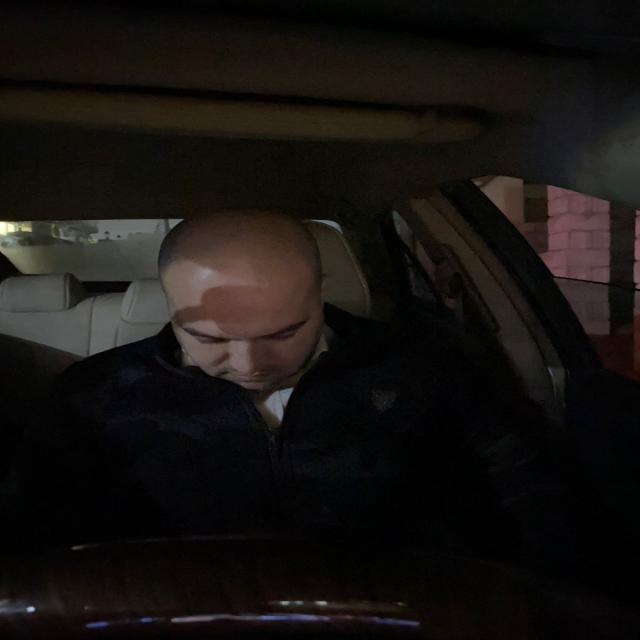drowsy: (155, 199, 335, 394)
